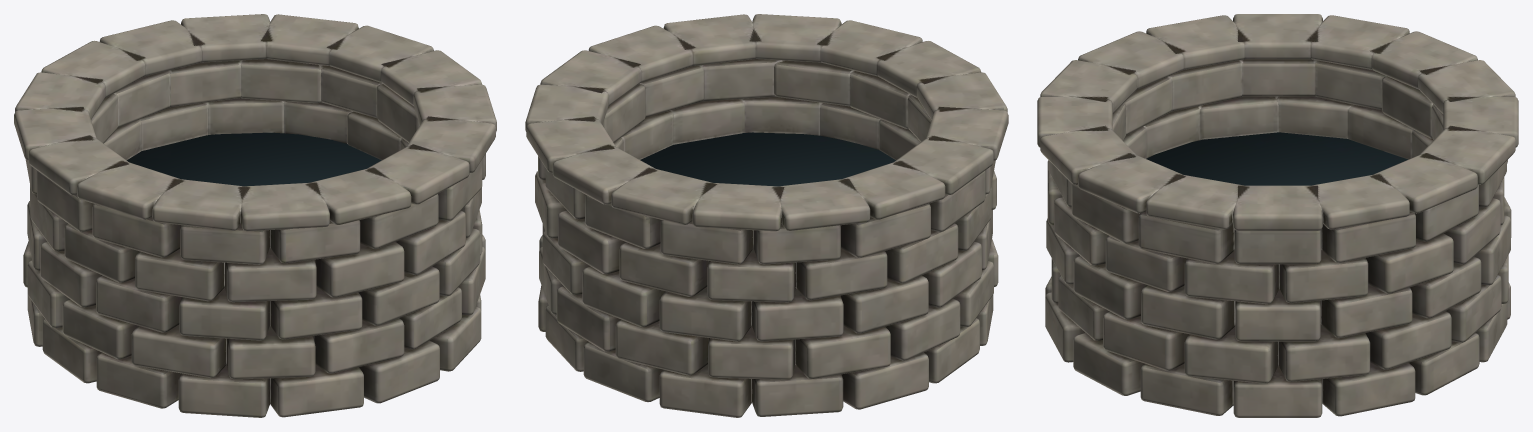
Rendered from well.glb.
3 renders of one model, left to right at view 1: azimuth 30°, elevation 25°; view 2: azimuth 150°, elevation 25°; view 3: azimuth 270°, elevation 25°, orthographic.
Visible parts, largest first — view 1: well; view 2: well; view 3: well.
Part boxes in pixels (left/top/right/bottom): well: left=14, top=14, right=496, bottom=417; well: left=525, top=14, right=1008, bottom=417; well: left=1037, top=14, right=1518, bottom=417.
Bounding box in the file's own units: 2.04 × 0.988 × 2.04.
1 material, 1 textured.
